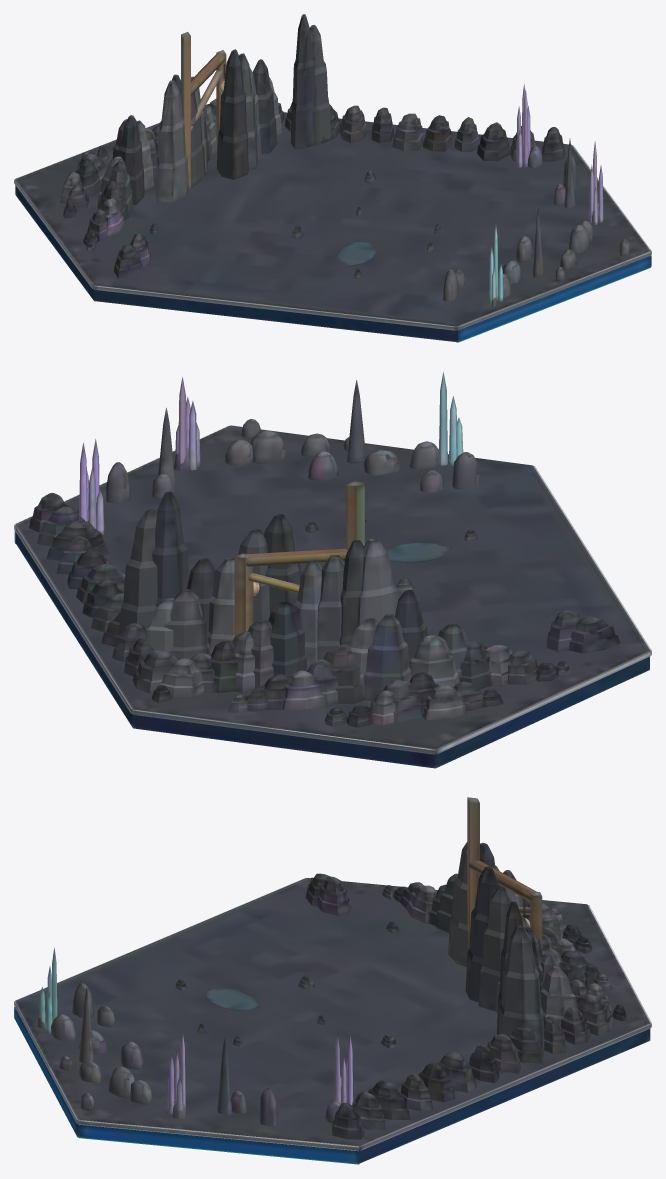
File: field_cm40_01.glb
3 renders of one model, top to bottom at view 1: azimuth 30°, elevation 25°; view 2: azimuth 150°, elevation 25°; view 3: azimuth 270°, elevation 25°, orthographic. The views are drawn at different scales.
Visible parts, largest first — view 1: field_cm40_01-runtime-static; view 2: field_cm40_01-runtime-static; view 3: field_cm40_01-runtime-static.
Boxes of the visible parts, x1,y1,x2,y2 form: field_cm40_01-runtime-static: (14, 14, 651, 342); field_cm40_01-runtime-static: (14, 372, 651, 768); field_cm40_01-runtime-static: (14, 797, 651, 1164).
Bounding box in the file's own units: 7.87 × 2.53 × 7.87.
1 material, 1 textured.
